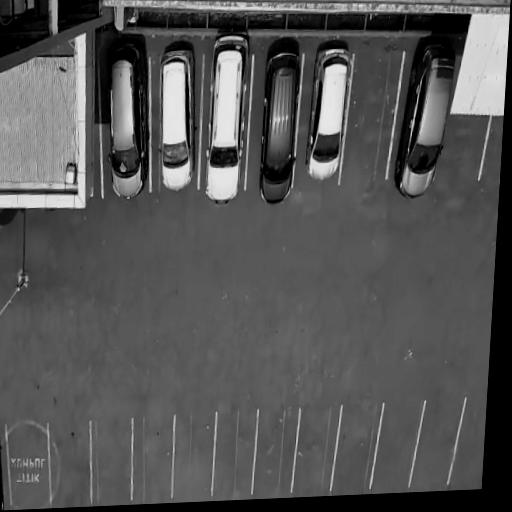Car: (390, 37, 461, 206), (252, 37, 308, 210), (201, 29, 253, 214), (101, 41, 155, 202), (300, 39, 355, 187), (153, 43, 202, 194)
Space Available: (344, 56, 394, 184), (254, 406, 295, 496), (213, 414, 256, 497), (174, 415, 215, 501), (338, 399, 374, 493), (379, 398, 415, 491), (135, 416, 173, 504), (297, 405, 335, 493), (94, 418, 131, 505), (52, 421, 90, 505), (420, 398, 453, 488), (441, 114, 482, 186), (13, 426, 47, 508), (460, 398, 487, 487), (486, 122, 503, 184)
